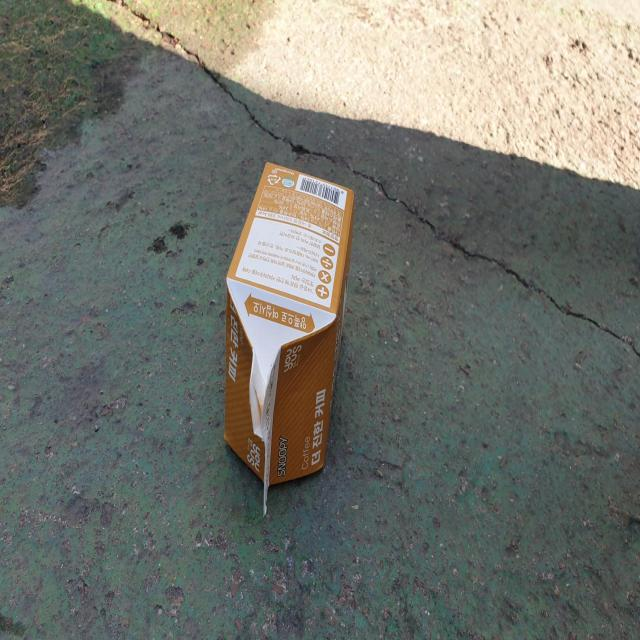paperpack: (224, 162, 354, 514)
